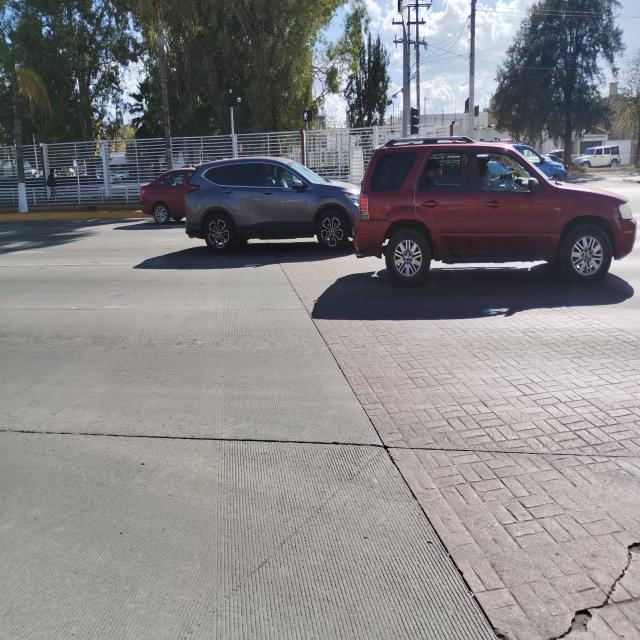Auto: (356, 138, 638, 294), (186, 155, 366, 251), (140, 163, 200, 228), (509, 140, 571, 184), (572, 145, 622, 169)
